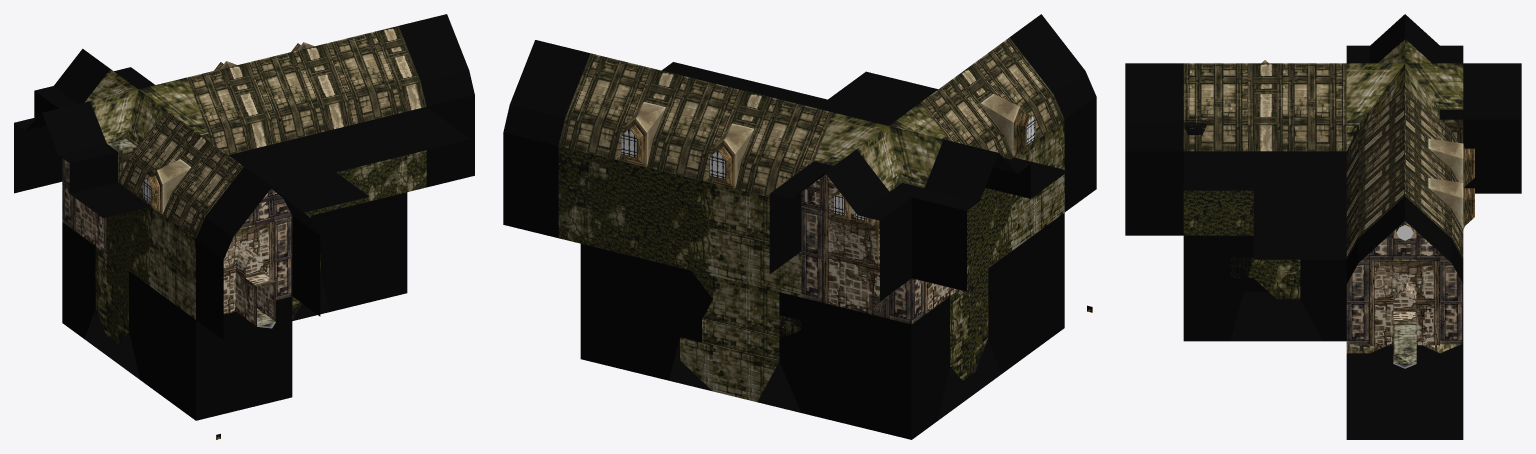
The model's file is MAP174.obj.
The picture shows the model from 3 angles, left to right: view 1: azimuth 30°, elevation 25°; view 2: azimuth 150°, elevation 25°; view 3: azimuth 270°, elevation 25°; orthographic projection. The views are drawn at different scales.
Parts seen in each view (by area): view 1: mesh_8, mesh_35, mesh_6, mesh_29, mesh_4, mesh_7, mesh_3, mesh_2, mesh_108, mesh_58, mesh_36, mesh_43 (+16 smaller); view 2: mesh_8, mesh_29, mesh_2, mesh_4, mesh_75, mesh_5, mesh_108, mesh_35, mesh_3, mesh_58, mesh_6, mesh_36 (+21 smaller); view 3: mesh_9, mesh_6, mesh_35, mesh_29, mesh_8, mesh_3, mesh_5, mesh_36, mesh_113, mesh_50, mesh_2, mesh_4 (+11 smaller).
Boxes of the visible parts, box(x1,y1,x2,y2) form: mesh_8: box(62, 192, 407, 420); mesh_35: box(129, 30, 390, 238); mesh_6: box(228, 106, 470, 212); mesh_29: box(118, 26, 426, 222); mesh_4: box(14, 101, 150, 218); mesh_7: box(196, 296, 292, 420); mesh_3: box(196, 167, 320, 339); mesh_2: box(399, 14, 474, 187); mesh_108: box(320, 201, 368, 311); mesh_58: box(95, 216, 151, 344); mesh_36: box(90, 69, 197, 134); mesh_43: box(223, 226, 275, 326); mesh_8: box(580, 213, 1064, 439); mesh_29: box(558, 53, 1038, 194); mesh_2: box(503, 40, 590, 238); mesh_4: box(911, 139, 1068, 291); mesh_75: box(713, 183, 779, 401); mesh_5: box(769, 149, 911, 301); mesh_108: box(624, 254, 701, 380); mesh_35: box(776, 37, 1064, 159); mesh_3: box(1009, 14, 1096, 211); mesh_58: box(950, 204, 1013, 380); mesh_6: box(662, 62, 937, 125); mesh_36: box(820, 103, 943, 177); mesh_9: box(1230, 292, 1463, 439); mesh_6: box(1183, 151, 1346, 259); mesh_35: box(1183, 63, 1428, 209); mesh_29: box(1230, 63, 1463, 259); mesh_8: box(1183, 235, 1346, 341); mesh_3: box(1125, 63, 1183, 235); mesh_5: box(1463, 63, 1521, 193); mesh_36: box(1346, 39, 1463, 108); mesh_113: box(1370, 261, 1439, 345); mesh_50: box(1183, 190, 1253, 235); mesh_2: box(1346, 196, 1463, 283); mesh_4: box(1346, 14, 1463, 63).
Bounding box in the file's own units: 269 × 155 × 218.
19 materials, 19 textured.
